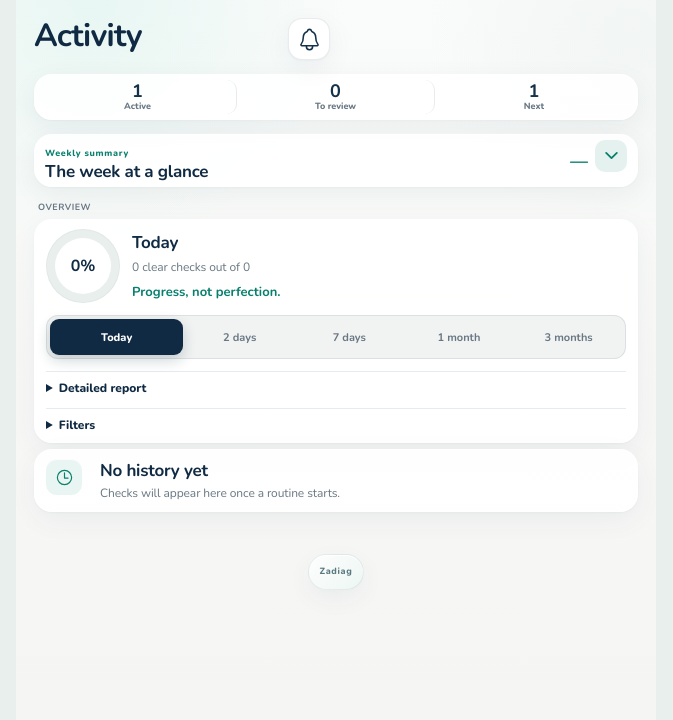
Test: ParentDashboard › shows upcoming checks when no responsible check is active
Expected: the text "Upcoming checks" is not shown
Click the button "1 Next": (534, 97) [435,80,633,114]
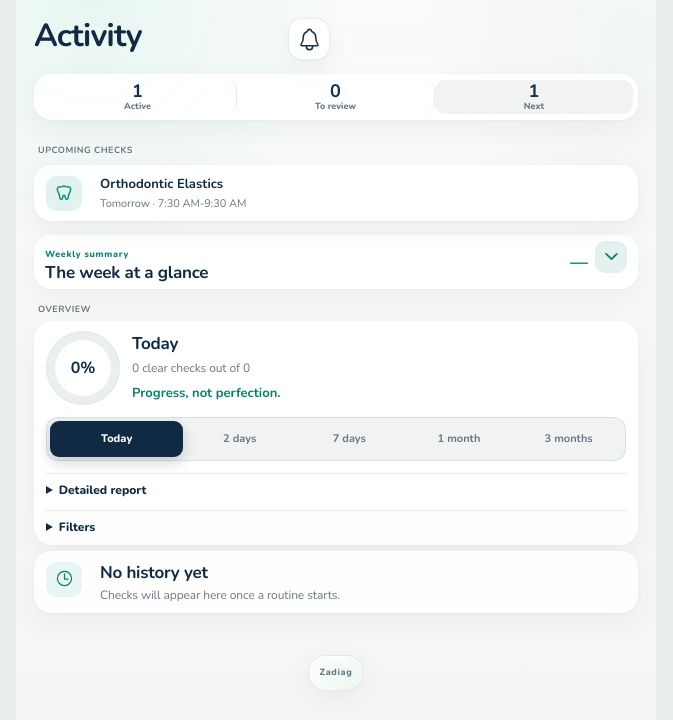
Expected: the text "Upcoming checks" is shown, [38,144,133,156]
Expected: the text "Orthodontic Elastics" is shown, [100,175,223,193]
